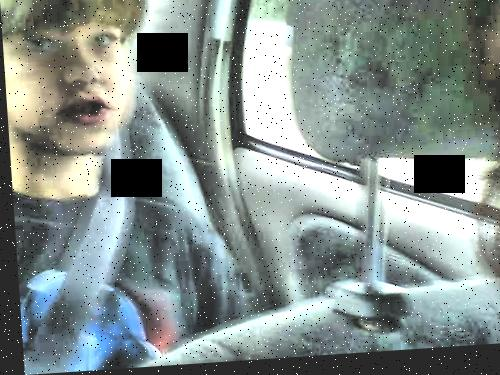seatbelt: (39, 125, 167, 347)
